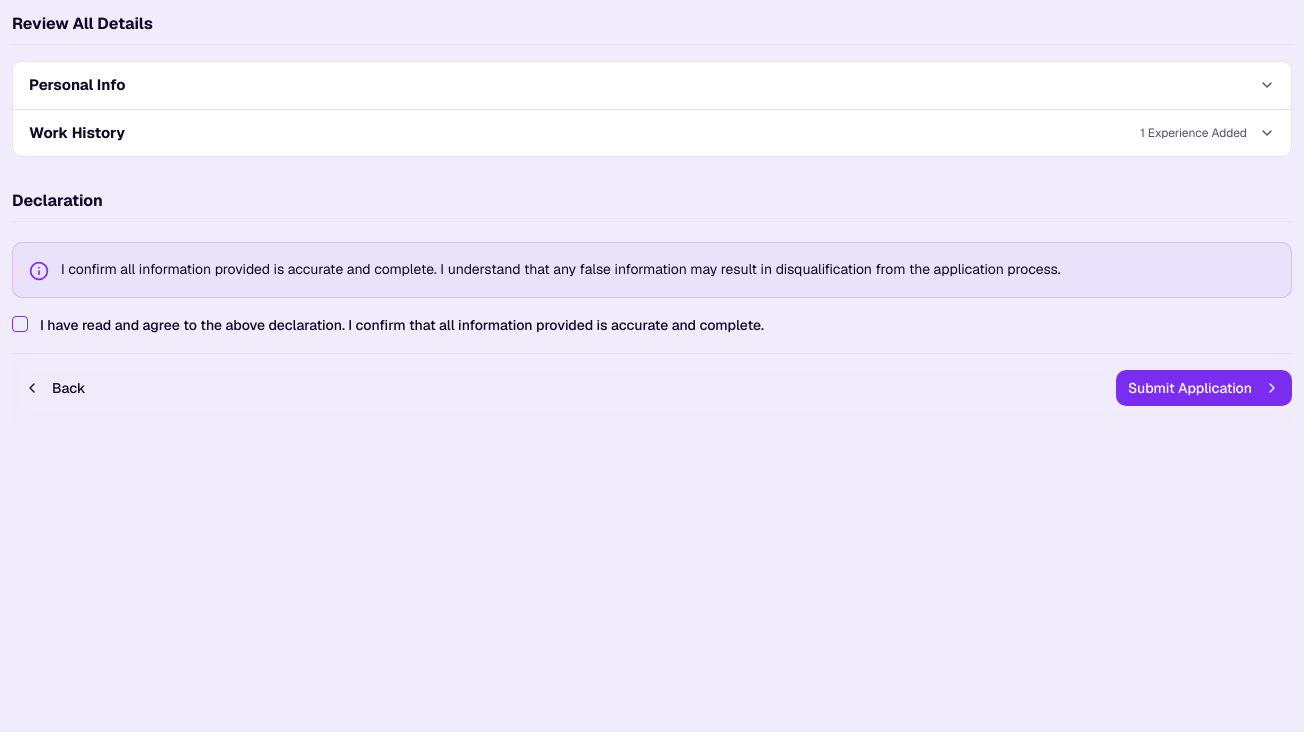
Test: JobApplicationReviewStep › renders expanded work history child table items correctly
Click the button "Work History 1 Experience Added" at (77, 132), box x1=13 y1=110 x2=1291 y2=156
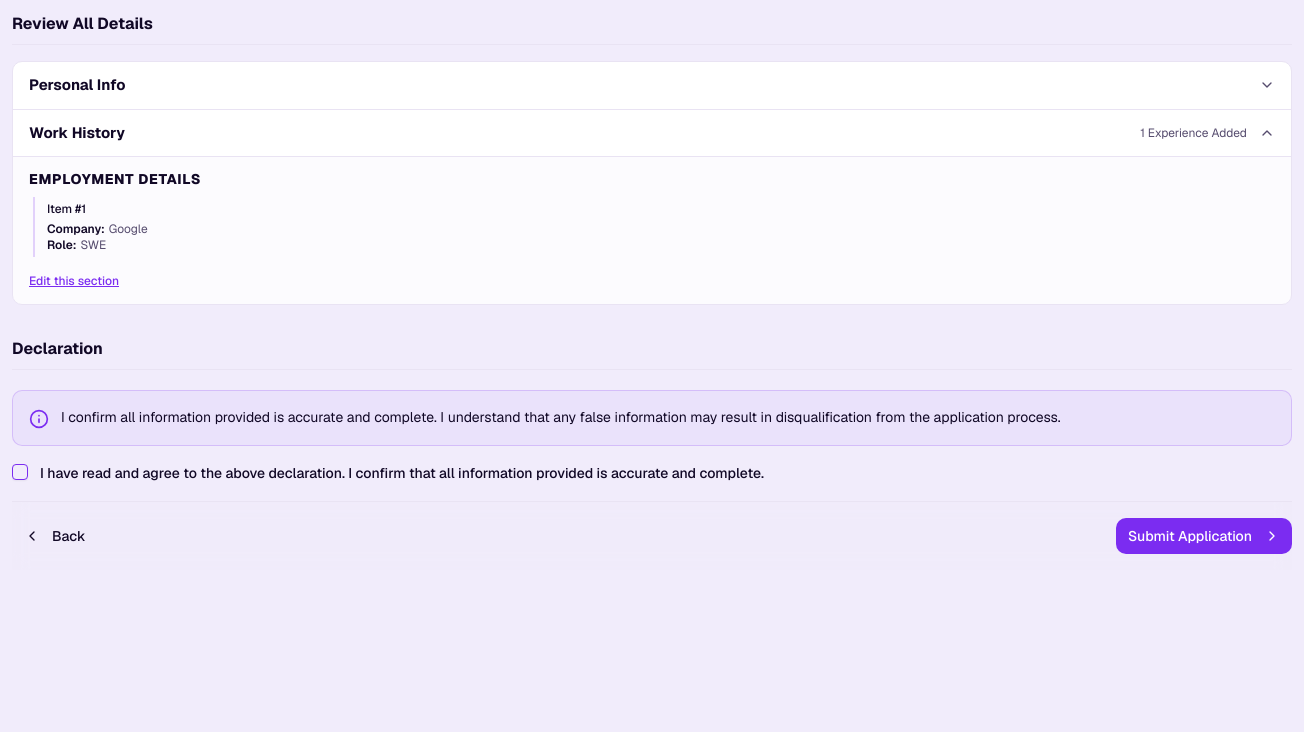
Result: the text "Company:" is shown at x1=47 y1=221 x2=105 y2=237
Result: the text "Google" is shown at x1=109 y1=221 x2=148 y2=237
Result: the text "Role:" is shown at x1=47 y1=237 x2=76 y2=253
